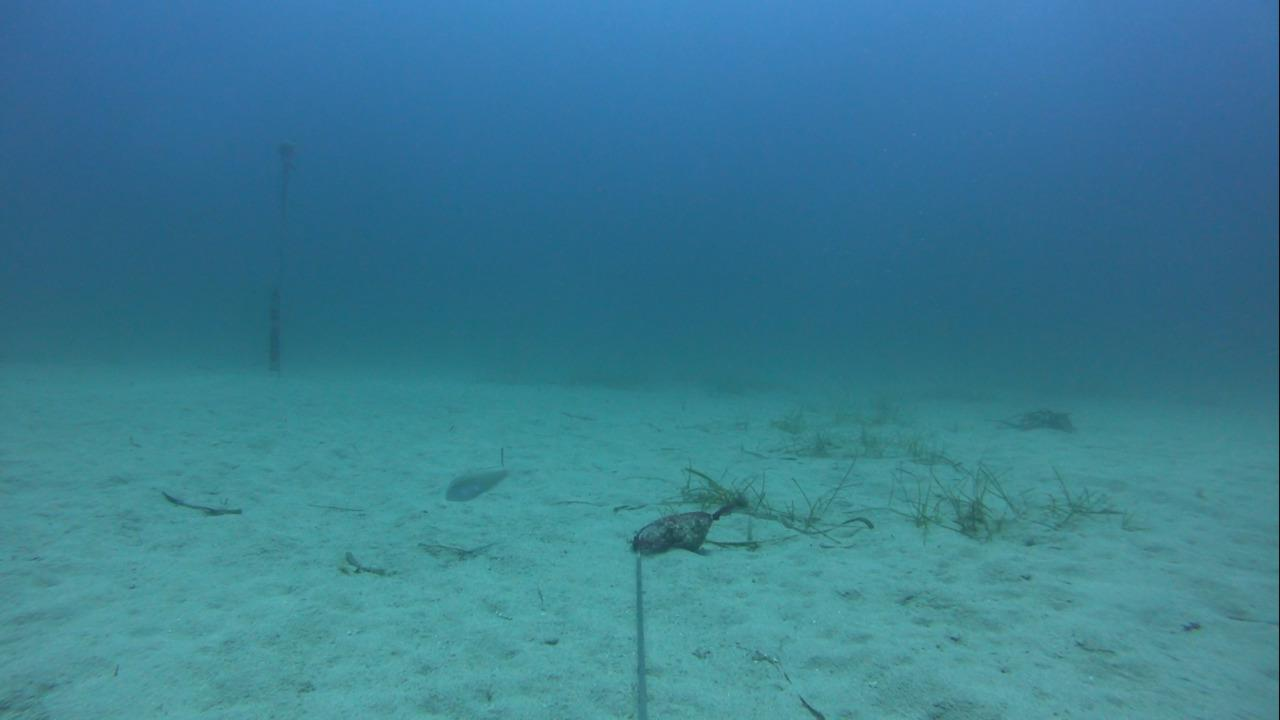raor: (437, 458, 517, 506)
